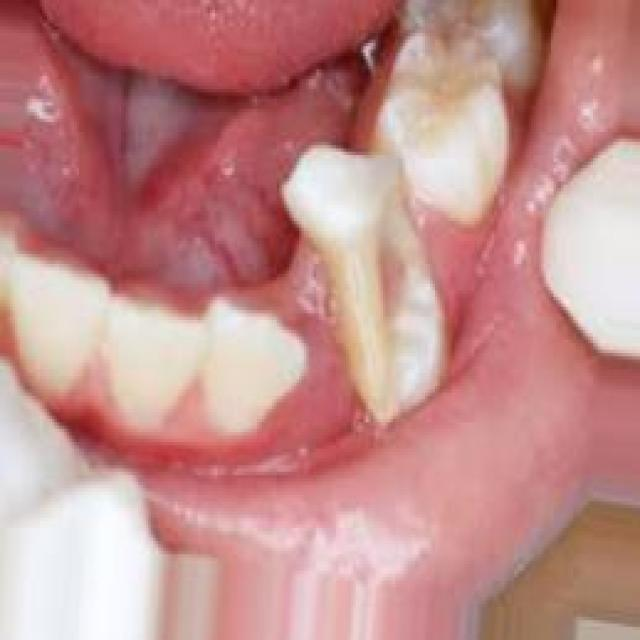caries: (297, 164, 469, 420)
